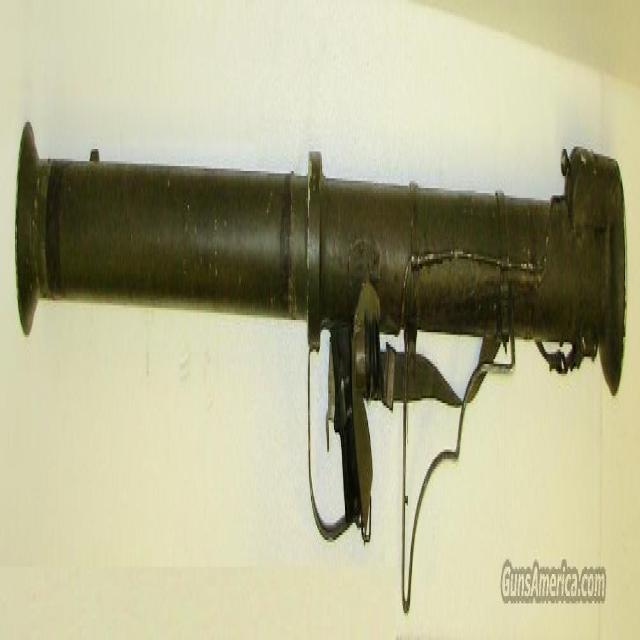bazooka: (16, 107, 640, 564)
